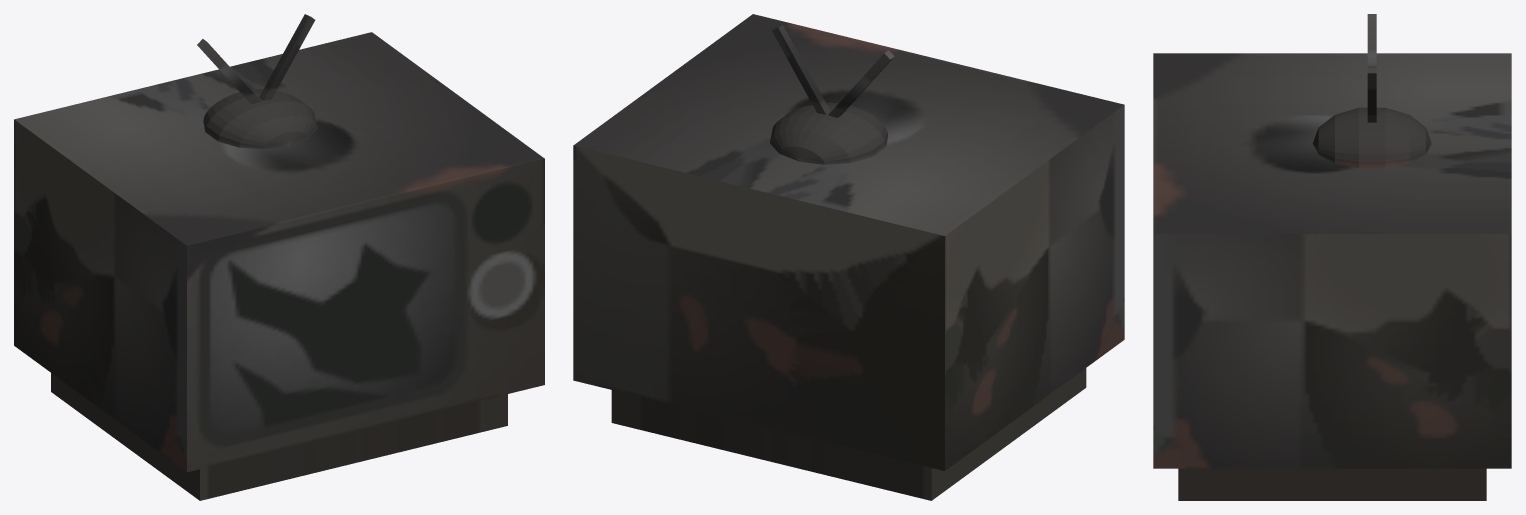
Rendered from Building_AncientTV.obj.
The picture shows the model from 3 angles, left to right: view 1: azimuth 30°, elevation 25°; view 2: azimuth 150°, elevation 25°; view 3: azimuth 270°, elevation 25°; orthographic projection. The views are drawn at different scales.
Visible parts, largest first — view 1: Body; view 2: Body; view 3: Body.
Boxes of the visible parts, x1=… form: Body: x1=14, y1=14, x2=544, y2=500; Body: x1=573, y1=14, x2=1124, y2=500; Body: x1=1153, y1=14, x2=1511, y2=500.
Bounding box in the file's own units: 0.86 × 0.8455 × 0.72.
1 material, 1 textured.
